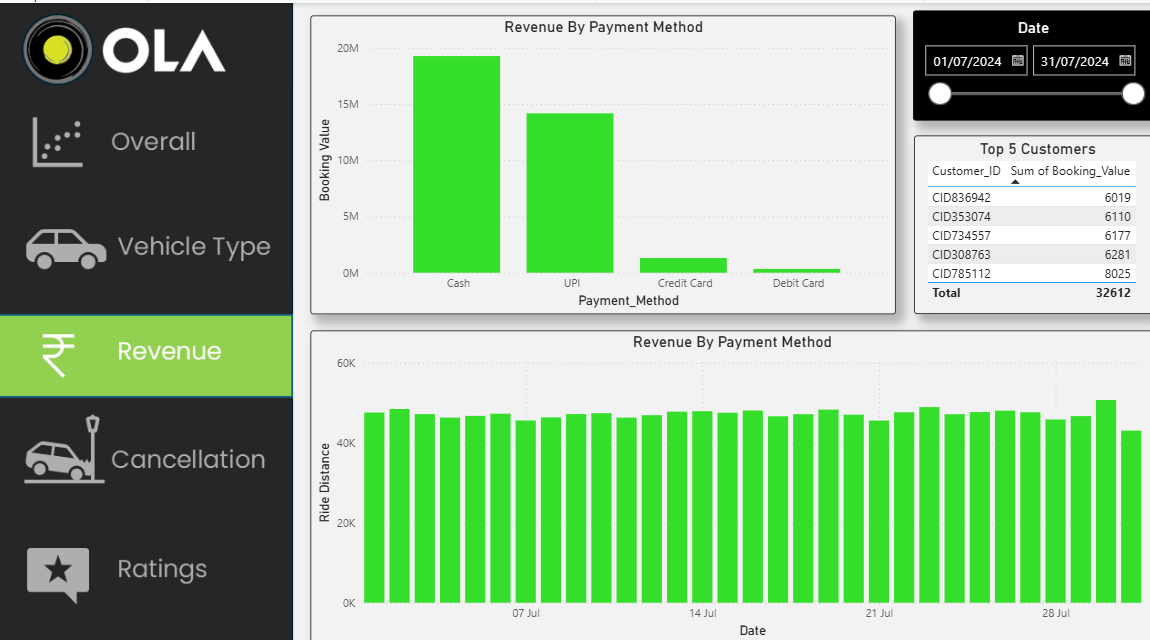

Layout of this report page (visuals, bound fields, positions):
{"tool":"powerbi","page":{"name":"Revenue","canvas":[1280,720],"ordinal":2},"visuals":[{"type":"actionButton","box":[0,222,324.5,90.5],"z":0},{"type":"actionButton","box":[0,447.6,324.5,90.5],"z":1000},{"type":"actionButton","box":[0,577.9,324.5,90.5],"z":2000},{"type":"actionButton","box":[0,113.4,324.5,90.5],"z":3000},{"type":"columnChart","title":"Revenue By Payment Method","fields":{"Y":["Sum(July.Booking_Value)"],"Category":["July.Payment_Method"]},"box":[343.1,13.7,642.2,328],"z":4000},{"type":"columnChart","title":"Revenue By Payment Method","fields":{"Y":["Sum(July.Ride_Distance)"],"Category":["July.Date"]},"box":[343.1,359.5,924.9,344.4],"z":5000},{"type":"slicer","title":"Date","fields":{"Values":["July.Date"]},"box":[1004.5,8.2,263.5,120.8],"z":6000},{"type":"tableEx","title":"Top 5 Customers","fields":{"Values":["July.Customer_ID","Sum(July.Booking_Value)"]},"box":[1005.8,145.5,262.1,196.2],"z":7000}]}

Visuals, with their boxes in screenshot pixels (x1, y1, x2, y2), scaled from the page's 1280x720 canvas onto the 1150x640 screenshot:
actionButton: x1=0 y1=197 x2=292 y2=278
actionButton: x1=0 y1=398 x2=292 y2=478
actionButton: x1=0 y1=514 x2=292 y2=594
actionButton: x1=0 y1=101 x2=292 y2=181
"Revenue By Payment Method" columnChart: x1=308 y1=12 x2=885 y2=304
"Revenue By Payment Method" columnChart: x1=308 y1=320 x2=1139 y2=626
"Date" slicer: x1=902 y1=7 x2=1139 y2=115
"Top 5 Customers" tableEx: x1=904 y1=129 x2=1139 y2=304
